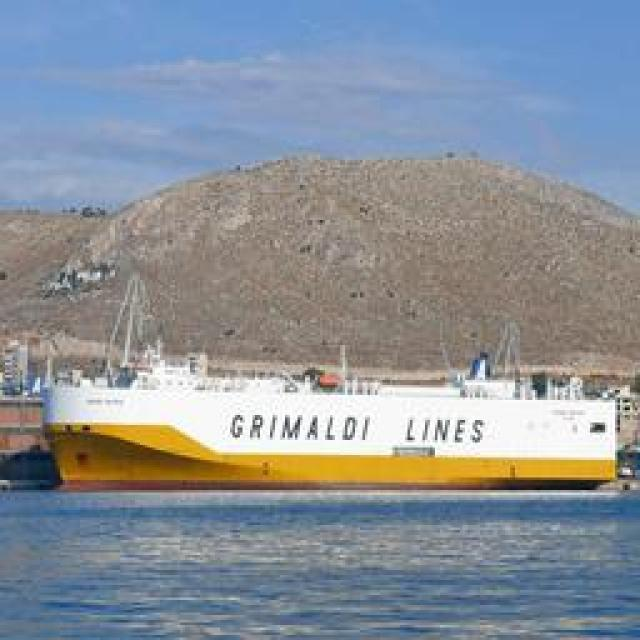ship2: (43, 260, 619, 492)
